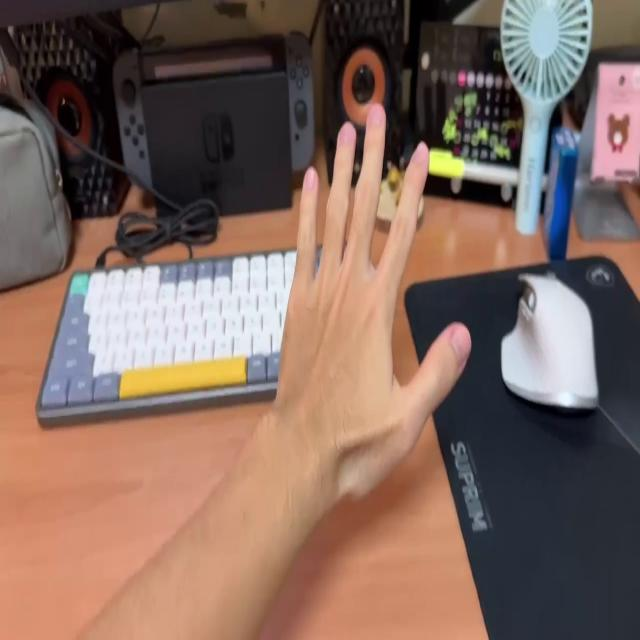keyboard-with-hands: (37, 243, 358, 414)
